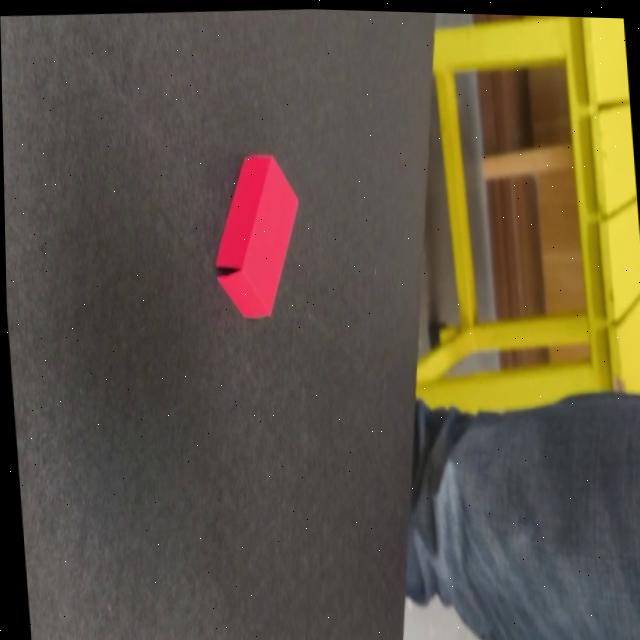red block: (205, 150, 308, 324)
